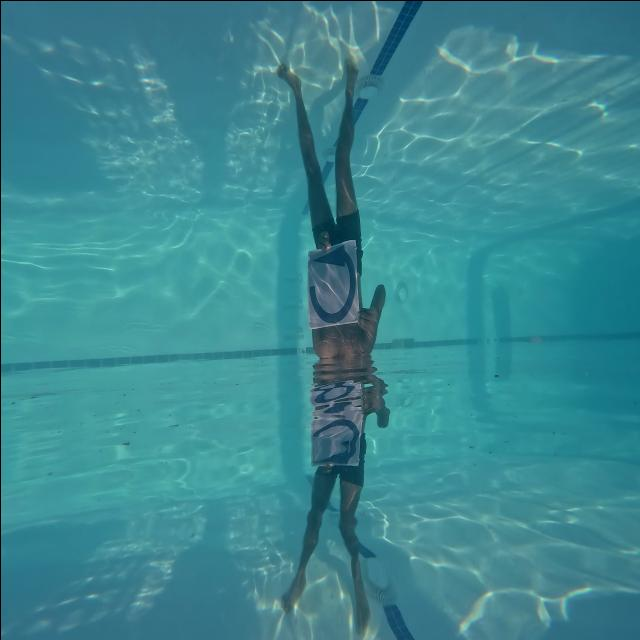blue_side: (306, 242, 360, 336)
